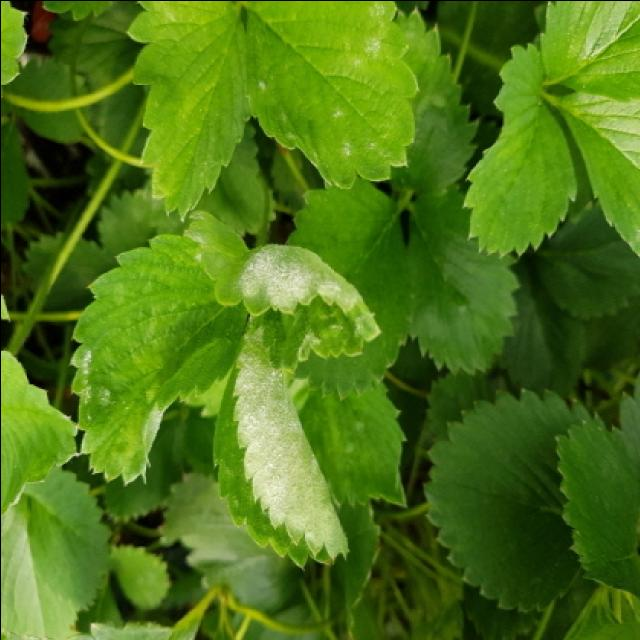Powdery Mildew Leaf: (68, 208, 249, 487), (212, 309, 348, 568), (244, 2, 422, 188), (238, 244, 381, 360)
